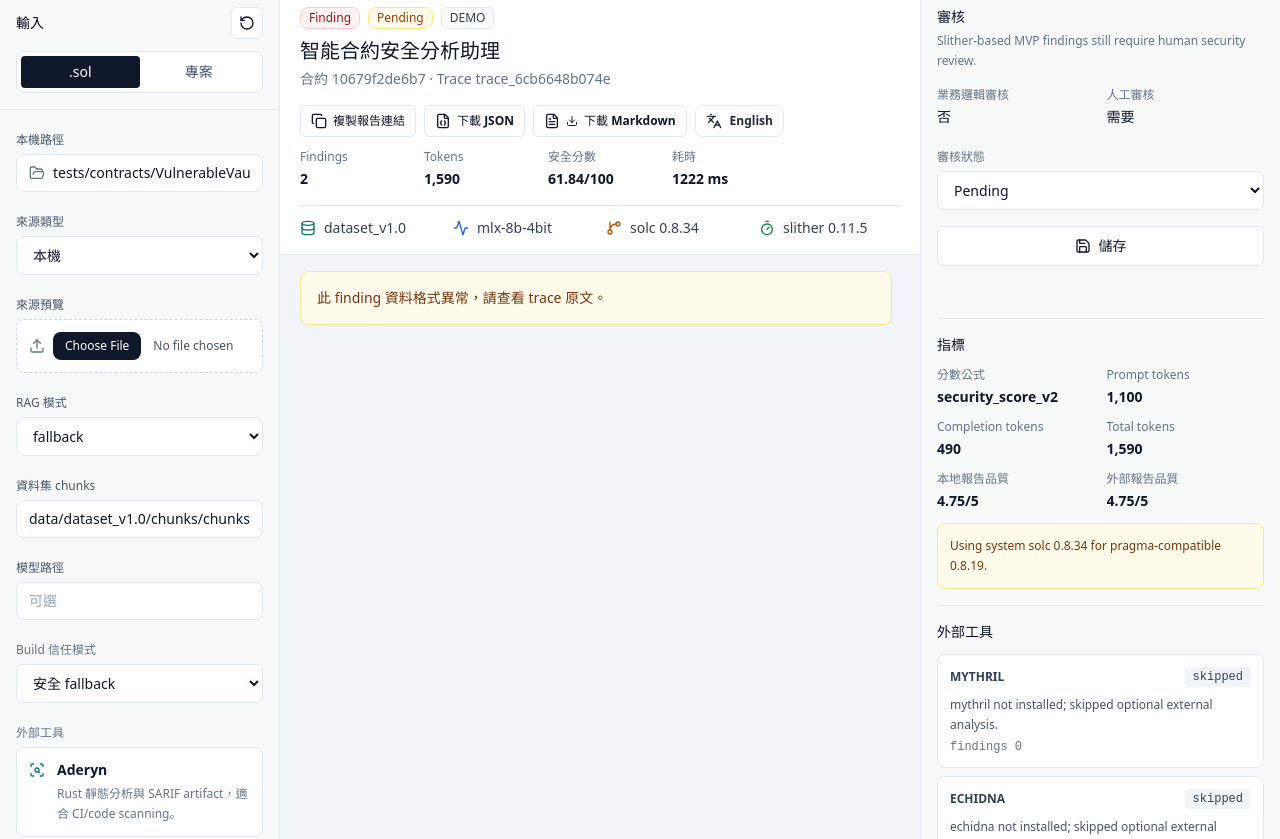
App › switches the interface language
The image size is (1280, 839).
What coordinates should you click on to do the following:
click the button with aria-label "切換語言"
I would click on:
 (739, 121)
Its box is [694,105,784,137].
(page scrolled)
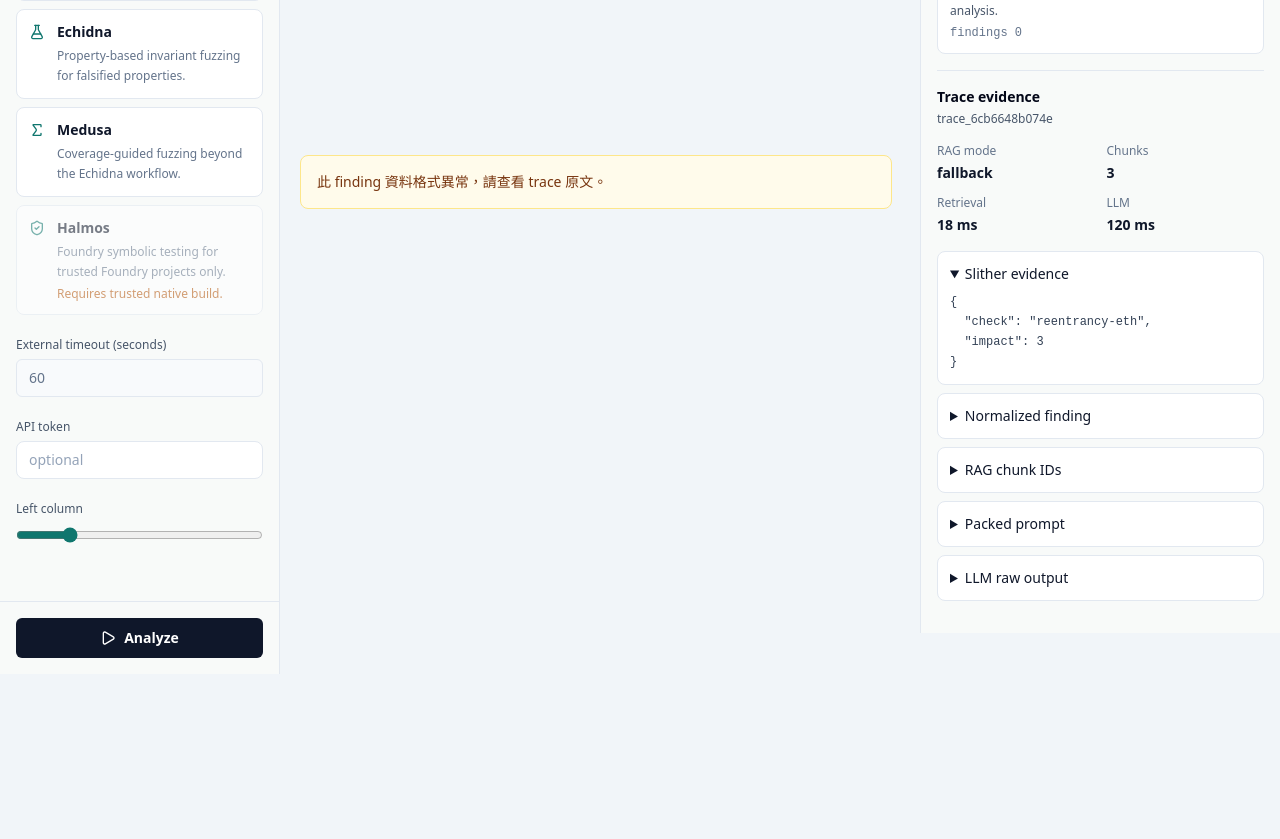
Check: the button "Analyze" is shown, box [16,618,263,658]
